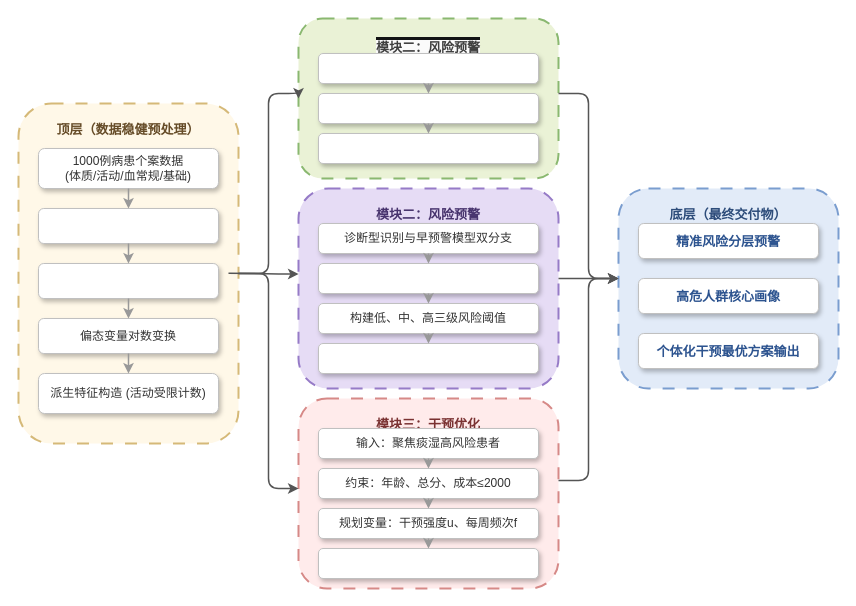
Image size: 856x606. Some labels were removed from this diagram. Here are the shapes that lost their labels. From the top down, the centre of each, then its label:
At pixel 429 69: "相关性分析、互信息评估".
At pixel 429 109: "随机森林与综合积分排序".
At pixel 429 149: "优先提取核心血脂等指标".
At pixel 129 227: "结构核验与主导标签修正".
At pixel 129 282: "分位截尾处理 (削弱极端值)".
At pixel 429 279: "多维特征融合分析".
At pixel 429 359: "精准识别高风险特征组合".
At pixel 429 565: "目标：最小化成本、降分≥10%".
